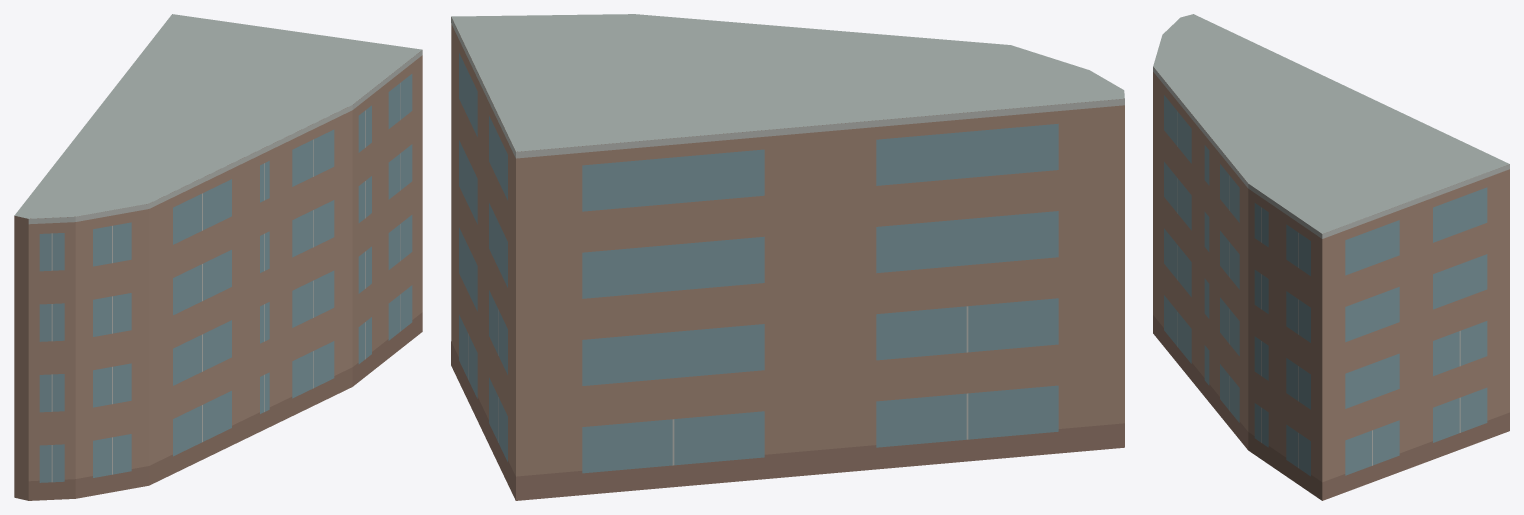
Rendered from survey-upis-32950865.glb.
3 views of the same model, side by side, from view 1: azimuth 30°, elevation 25°; view 2: azimuth 150°, elevation 25°; view 3: azimuth 270°, elevation 25° (orthographic). The views are drawn at different scales.
Visible parts, largest first — view 1: survey-upis-32950865.tmp; view 2: survey-upis-32950865.tmp; view 3: survey-upis-32950865.tmp.
Part boxes in pixels (bbox=[...]): survey-upis-32950865.tmp: bbox=[14, 14, 422, 500]; survey-upis-32950865.tmp: bbox=[451, 14, 1124, 500]; survey-upis-32950865.tmp: bbox=[1153, 14, 1509, 500].
Bounding box in the file's own units: 22.63 × 12.8 × 15.51.
